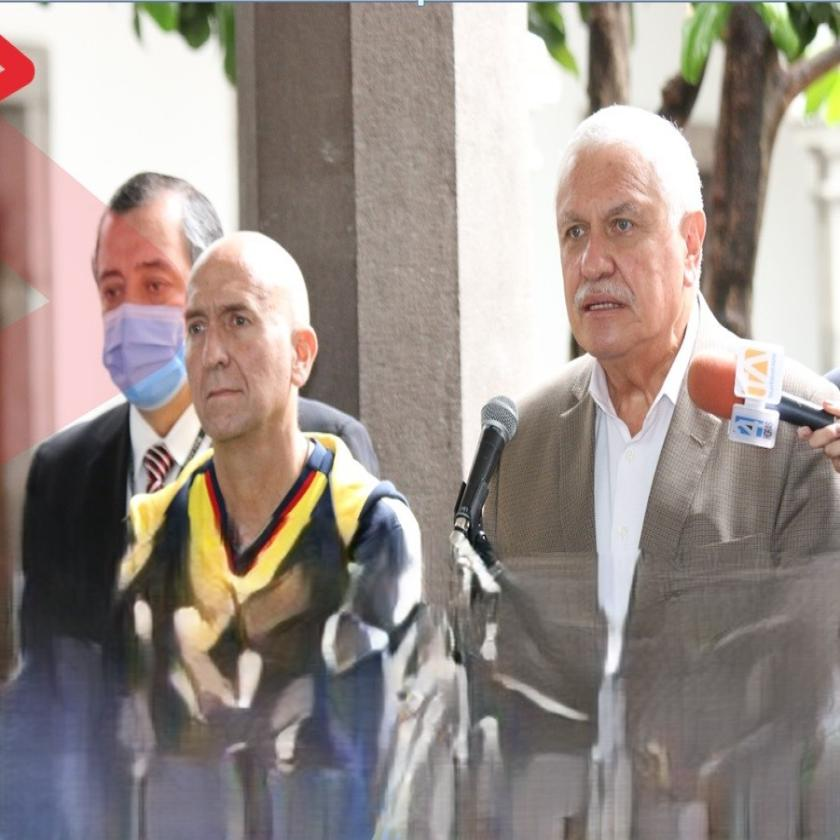Sin_casco: (547, 106, 707, 368), (86, 167, 219, 402), (188, 227, 322, 450)
